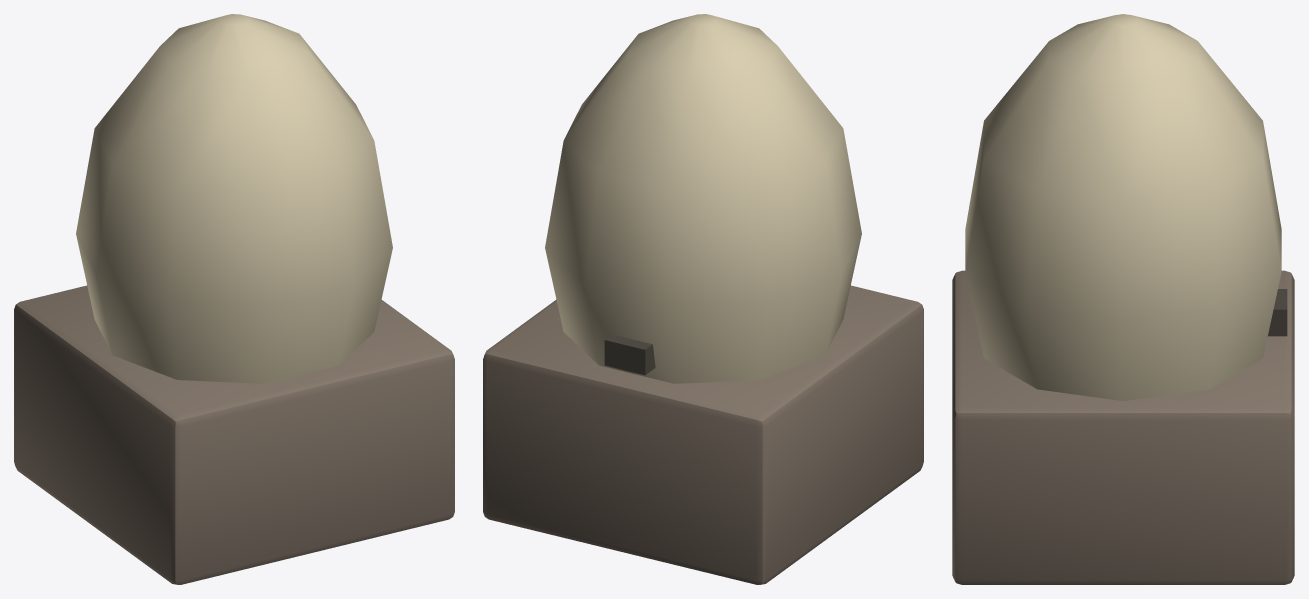
Rendered from beehive.gltf.
The picture shows the model from 3 angles, left to right: view 1: azimuth 30°, elevation 25°; view 2: azimuth 150°, elevation 25°; view 3: azimuth 270°, elevation 25°; orthographic projection. The views are drawn at different scales.
Visible parts, largest first — view 1: Body; view 2: Body; view 3: Body.
Part boxes in pixels (left/top/right/bottom): Body: left=14, top=14, right=454, bottom=584; Body: left=483, top=14, right=923, bottom=584; Body: left=952, top=14, right=1294, bottom=584.
Bounding box in the file's own units: 0.7 × 1.12 × 0.7.
